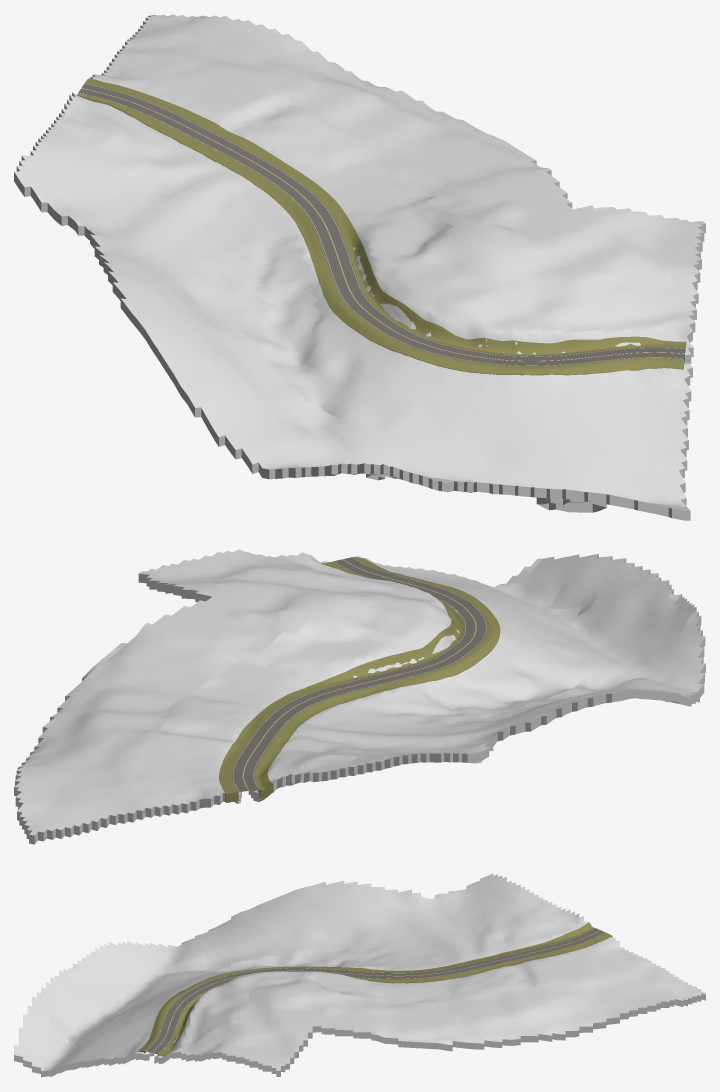
File: conz_157.glb
3 views of the same model, one above another, from view 1: azimuth 30°, elevation 25°; view 2: azimuth 150°, elevation 25°; view 3: azimuth 270°, elevation 25° (orthographic). The views are drawn at different scales.
Visible parts, largest first — view 1: terrain157, road157, verge157L, verge157R, paint_white157, paint_yellow157; view 2: terrain157, road157, verge157L, verge157R, paint_white157, paint_yellow157; view 3: terrain157, road157, verge157L, verge157R, paint_yellow157.
Part boxes in pixels (x1,y1,x2,y2): terrain157: (14,14,705,520); road157: (78,83,685,366); verge157L: (75,93,684,375); verge157R: (85,78,686,356); paint_white157: (80,83,685,365); paint_yellow157: (81,88,684,361); terrain157: (14,549,705,844); road157: (232,557,487,791); verge157L: (254,557,500,798); verge157R: (219,561,464,802); paint_white157: (233,557,486,791); paint_yellow157: (242,559,476,790); terrain157: (14,873,705,1077); road157: (145,928,605,1054); verge157L: (137,922,594,1052); verge157R: (157,932,612,1059); paint_yellow157: (151,930,600,1052).
Size of the model in its own units: 178 by 52.2 by 306.
